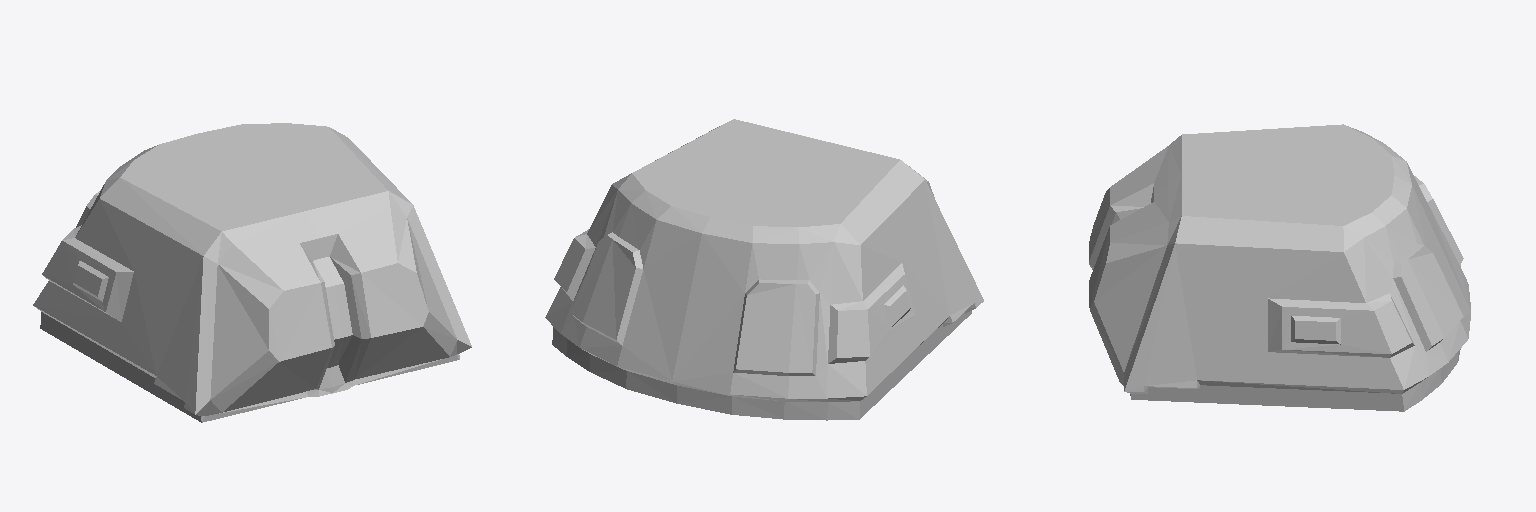
File: gun1-1.obj
3 renders of one model, left to right at view 1: azimuth 30°, elevation 25°; view 2: azimuth 150°, elevation 25°; view 3: azimuth 270°, elevation 25°, orthographic.
Parts seen in each view (by area): view 1: Tai_HeavyCruiserGun; view 2: Tai_HeavyCruiserGun; view 3: Tai_HeavyCruiserGun.
Part boxes in pixels (bbox=[...]): Tai_HeavyCruiserGun: bbox=[33, 123, 471, 422]; Tai_HeavyCruiserGun: bbox=[545, 119, 983, 420]; Tai_HeavyCruiserGun: bbox=[1089, 124, 1470, 411].
Bounding box in the file's own units: 42.89 × 20.56 × 44.17.